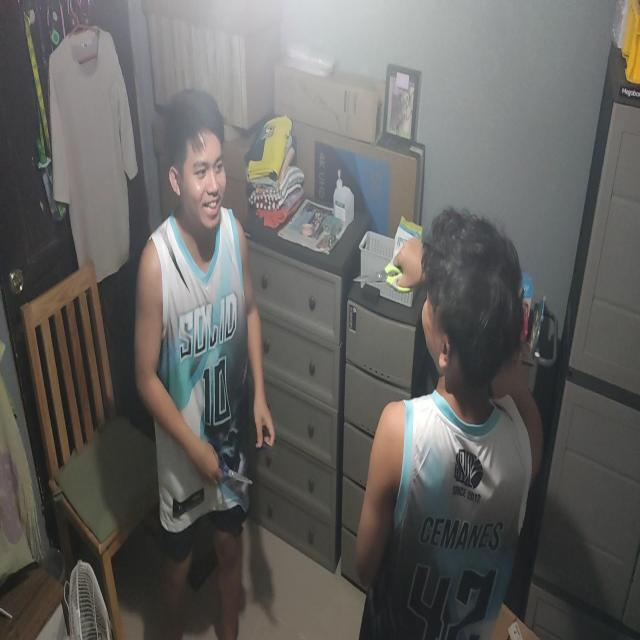scissor: (353, 247, 413, 293), (211, 452, 254, 486)
